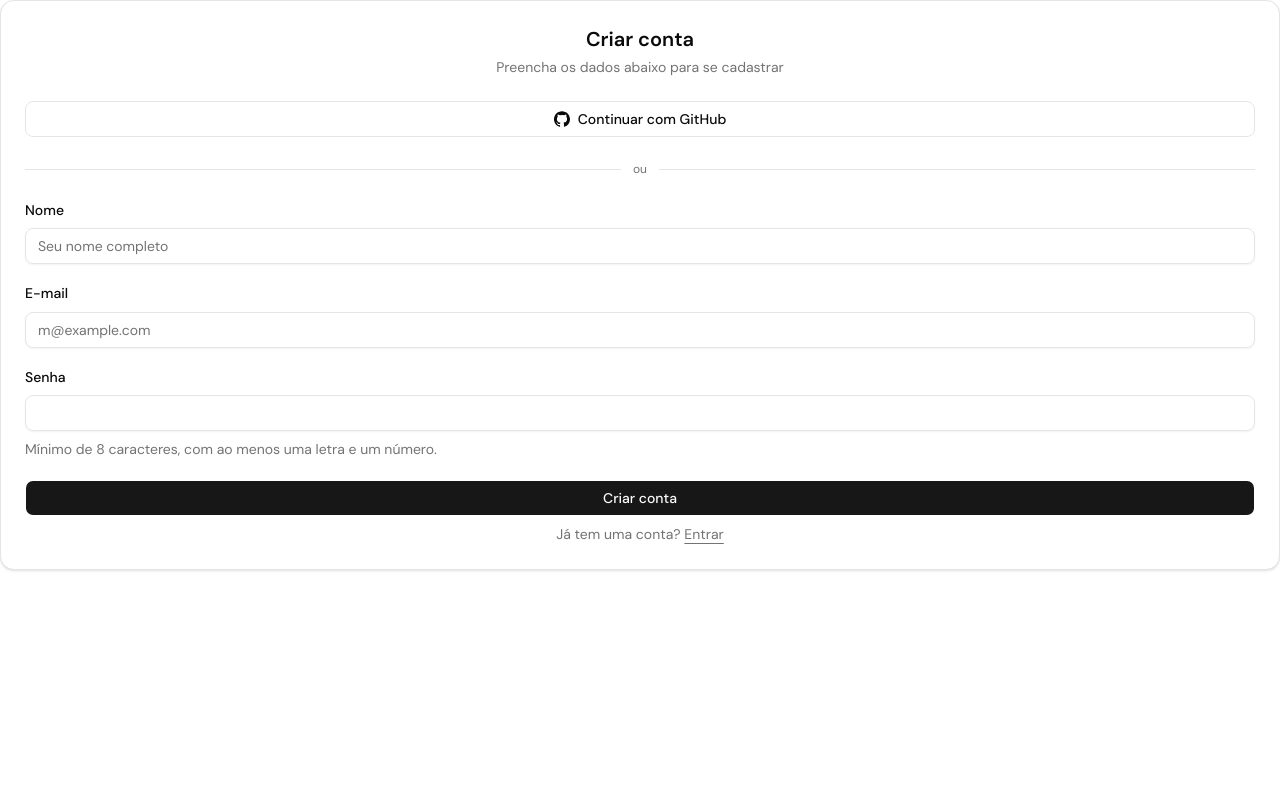
Test: CadastroForm › validação client-side (Zod) › mostra mensagens inline quando os campos obrigatórios estão vazios
Click the button "Criar conta". click: (640, 498)
box: [25,480,1255,516]
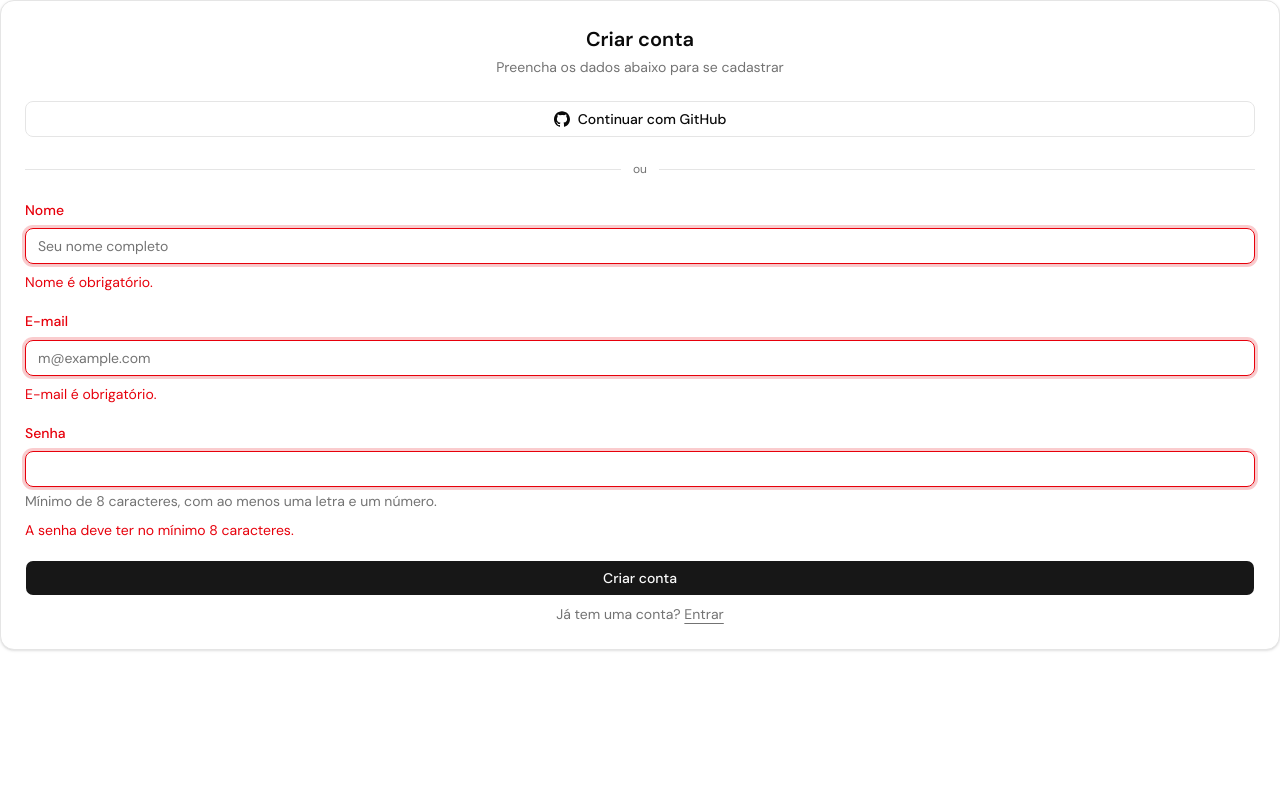
Expected: the text "Nome é obrigatório." is shown, [25,273,153,291]
Expected: the text "E-mail é obrigatório." is shown, [25,384,156,402]
Expected: the text "A senha deve ter no mínimo 8 caracteres." is shown, [25,521,294,539]
